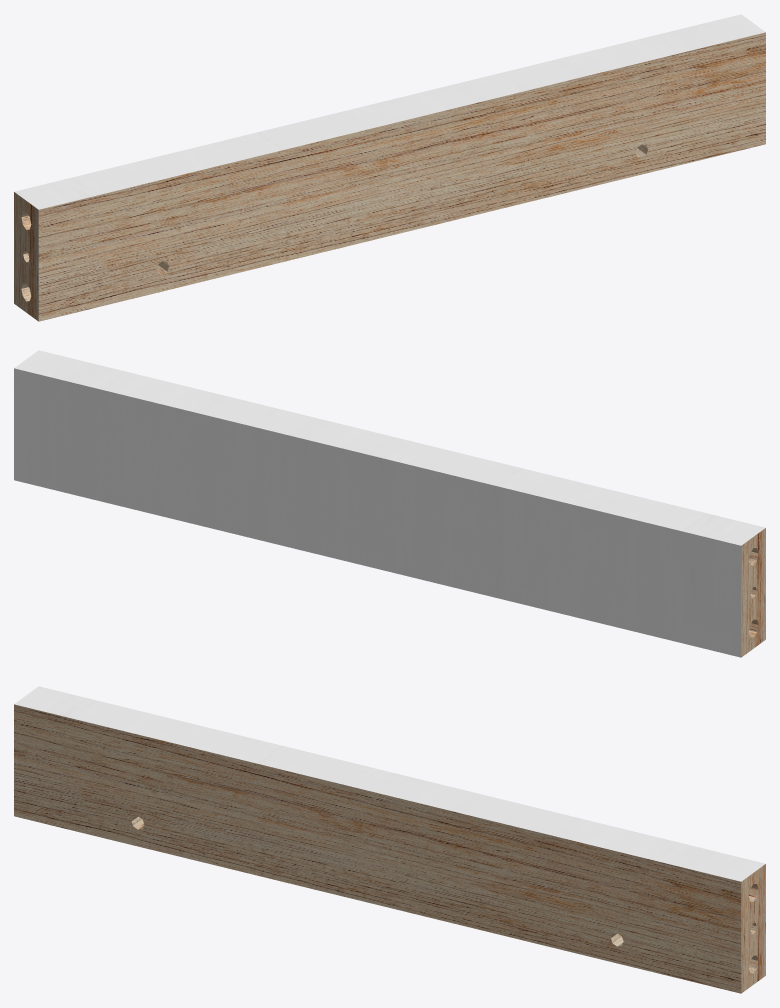
File: ikea_stefan_long.obj
3 views of the same model, one above another, from view 1: azimuth 30°, elevation 25°; view 2: azimuth 150°, elevation 25°; view 3: azimuth 330°, elevation 25° (orthographic).
Visible parts, largest first — view 1: Ikea_Stefan_Long.001; view 2: Ikea_Stefan_Long.001; view 3: Ikea_Stefan_Long.001.
Boxes of the visible parts, x1,y1,x2,y2 form: Ikea_Stefan_Long.001: (14,14,765,321); Ikea_Stefan_Long.001: (14,350,765,657); Ikea_Stefan_Long.001: (14,686,765,993).
Size of the model in its own units: 0.34 by 0.05 by 0.02.
1 material, 1 textured.
